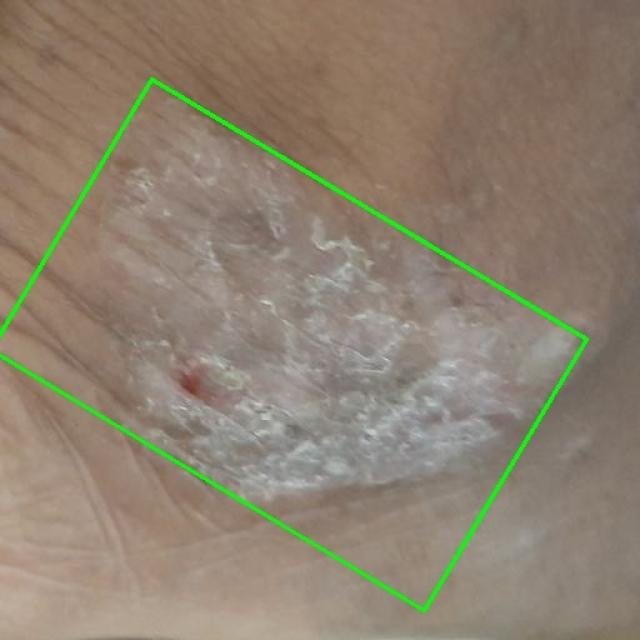Eczema: (0, 75, 589, 611)
